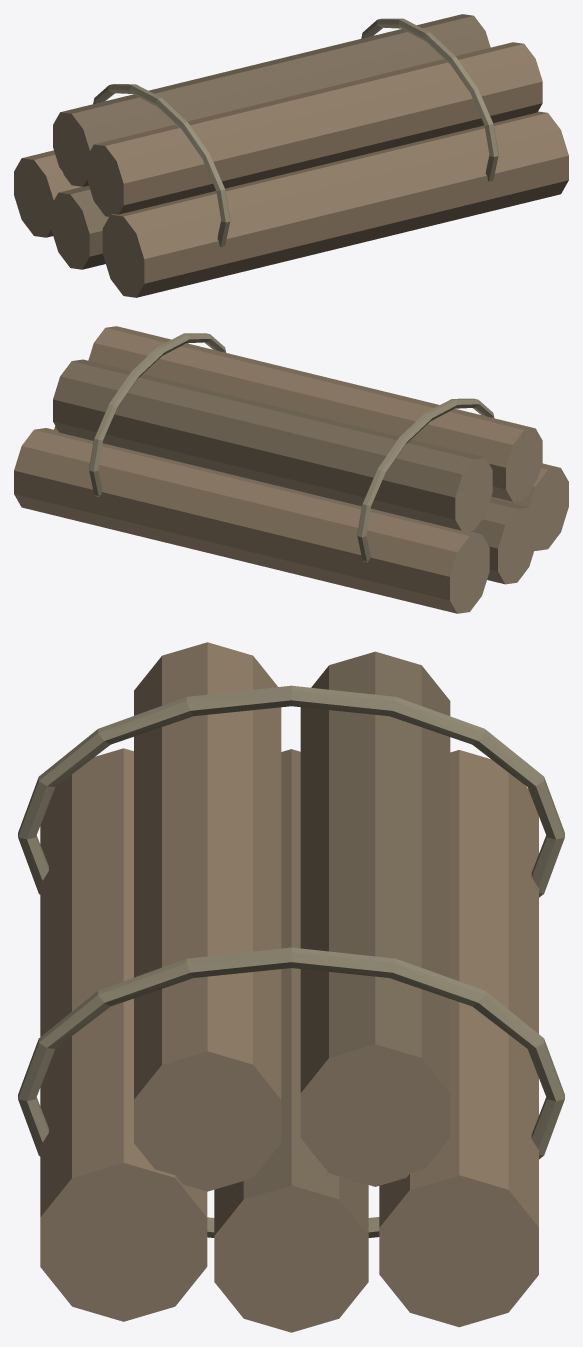
Rendered from env_firewood_bundle_a.glb.
3 renders of one model, top to bottom at view 1: azimuth 30°, elevation 25°; view 2: azimuth 150°, elevation 25°; view 3: azimuth 270°, elevation 25°, orthographic. The views are drawn at different scales.
Visible parts, largest first — view 1: root_material_5, root_material_7, root_material_9, root_material_10; view 2: root_material_5, root_material_7, root_material_9, root_material_10; view 3: root_material_5, root_material_9, root_material_7, root_material_10.
Part boxes in pixels (x1=…): root_material_5: x1=22, y1=42, x2=568, y2=297; root_material_7: x1=59, y1=14, x2=490, y2=269; root_material_9: x1=14, y1=112, x2=144, y2=297; root_material_10: x1=93, y1=18, x2=498, y2=246; root_material_5: x1=14, y1=326, x2=560, y2=613; root_material_7: x1=53, y1=359, x2=528, y2=584; root_material_9: x1=450, y1=428, x2=568, y2=613; root_material_10: x1=89, y1=333, x2=494, y2=562; root_material_5: x1=40, y1=642, x2=538, y2=1227; root_material_9: x1=40, y1=1044, x2=538, y2=1332; root_material_7: x1=214, y1=651, x2=450, y2=1235; root_material_10: x1=18, y1=685, x2=564, y2=1237.
Size of the model in its own units: 0.8 by 0.2529 by 0.4239.
